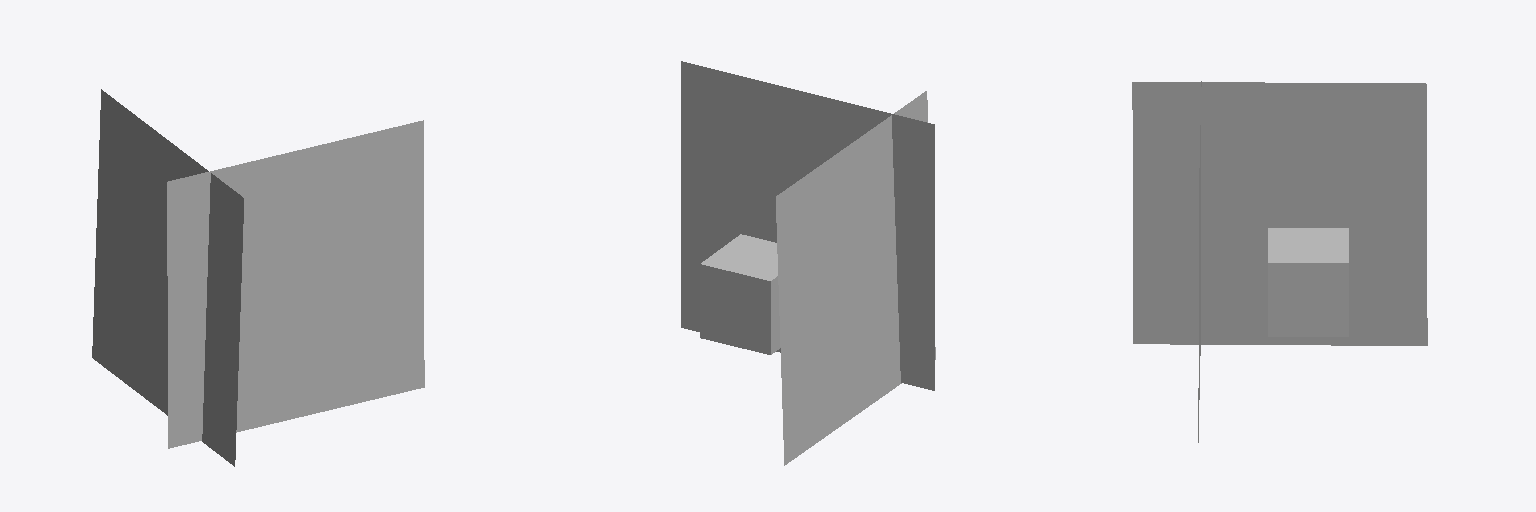
File: doublemirror.obj
3 renders of one model, left to right at view 1: azimuth 30°, elevation 25°; view 2: azimuth 150°, elevation 25°; view 3: azimuth 270°, elevation 25°, orthographic.
Visible parts, largest first — view 1: Plane.001, Plane; view 2: Plane.001, Plane, Cube.004; view 3: Plane, Cube.004.
Boxes of the visible parts, box(x1,y1,x2,y2) form: Plane.001: box(167, 120, 424, 448); Plane: box(92, 89, 243, 466); Plane.001: box(681, 61, 934, 390); Plane: box(776, 91, 935, 465); Cube.004: box(700, 234, 780, 354); Plane: box(1132, 82, 1427, 345); Cube.004: box(1268, 228, 1348, 336).
Size of the model in its own units: 2.6 by 2.61 by 2.6.